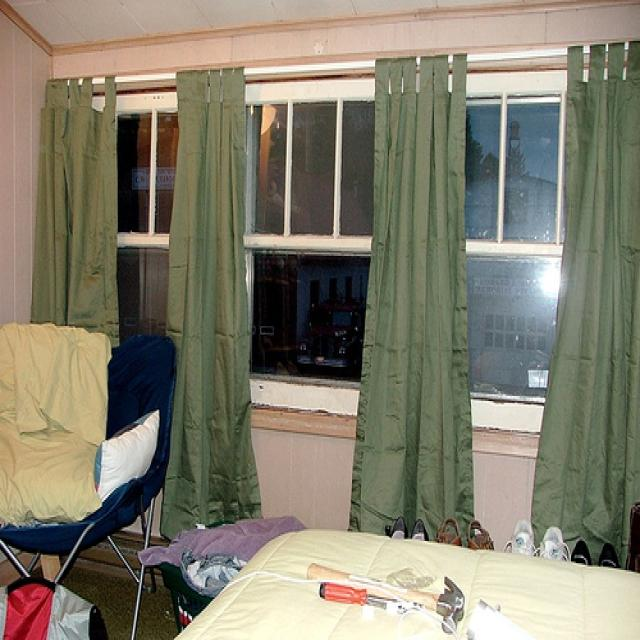Vehicle: (298, 298, 364, 372)
